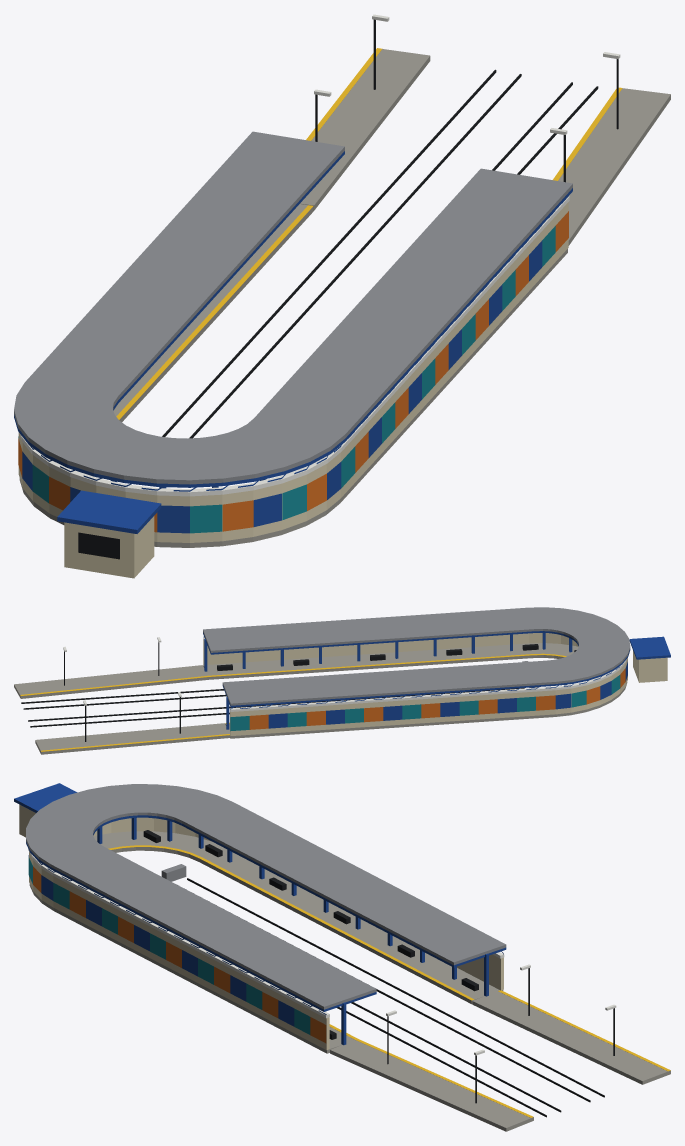
File: raml-station.glb
The picture shows the model from 3 angles, top to bottom: view 1: azimuth 30°, elevation 25°; view 2: azimuth 150°, elevation 25°; view 3: azimuth 270°, elevation 25°; orthographic projection. The views are drawn at different scales.
Visible parts, largest first — view 1: RamlStation; view 2: RamlStation; view 3: RamlStation.
Boxes of the visible parts, box(x1,y1,x2,y2) form: RamlStation: box(14, 14, 670, 578); RamlStation: box(14, 607, 670, 754); RamlStation: box(14, 783, 670, 1131).
Size of the model in its own units: 58.23 by 4.68 by 51.57.
Materials: 1 (1 with a texture image).
